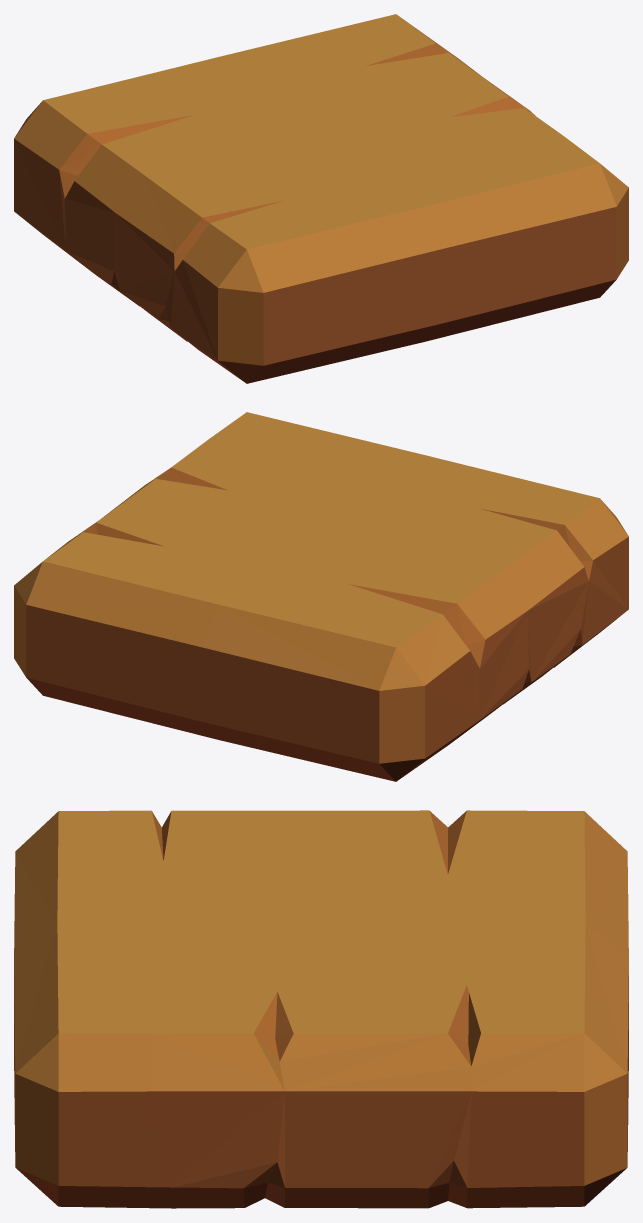
The model's file is m_kub_wood_floorPlate.FBX.
3 views of the same model, one above another, from view 1: azimuth 30°, elevation 25°; view 2: azimuth 150°, elevation 25°; view 3: azimuth 270°, elevation 25° (orthographic). The views are drawn at different scales.
Parts seen in each view (by area): view 1: m_kub_wood_floorPlate; view 2: m_kub_wood_floorPlate; view 3: m_kub_wood_floorPlate.
Part boxes in pixels (x1,y1,x2,y2): m_kub_wood_floorPlate: [14, 14, 628, 383]; m_kub_wood_floorPlate: [14, 412, 628, 781]; m_kub_wood_floorPlate: [14, 810, 628, 1208].
Bounding box in the file's own units: 2.2 × 0.692 × 2.18.
